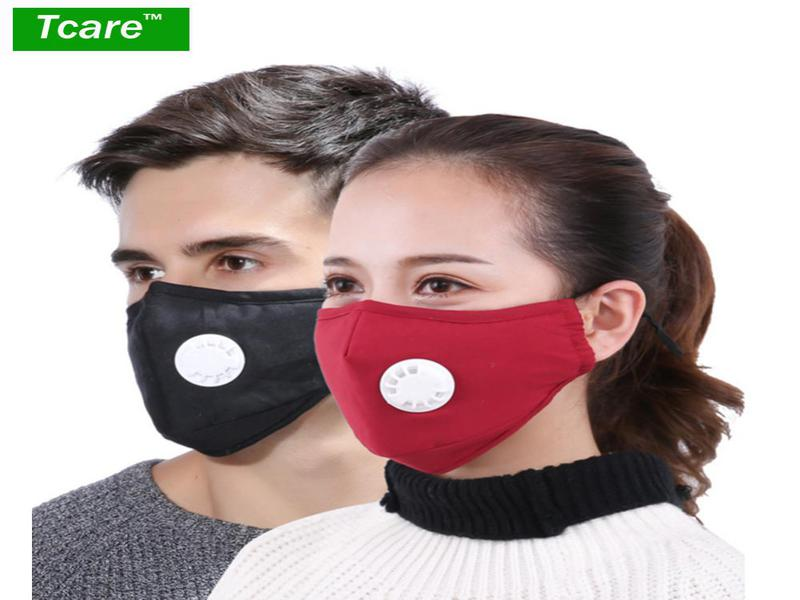with_mask: (308, 115, 658, 477), (81, 70, 324, 461)
